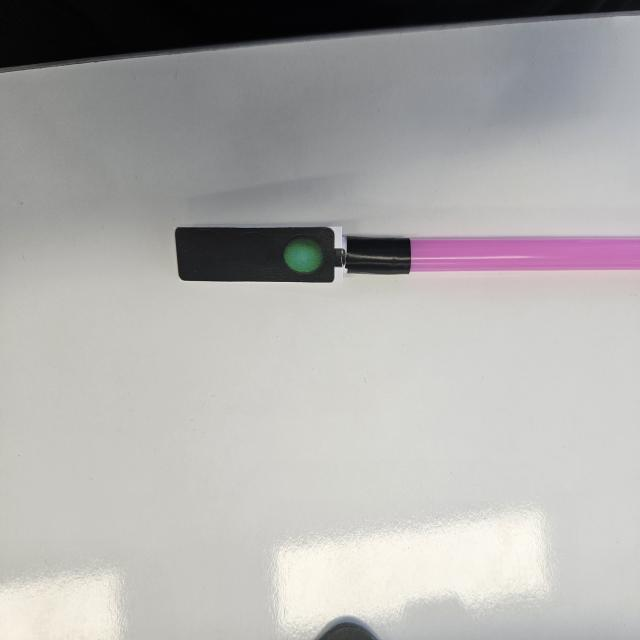traffic light: (176, 226, 348, 286)
